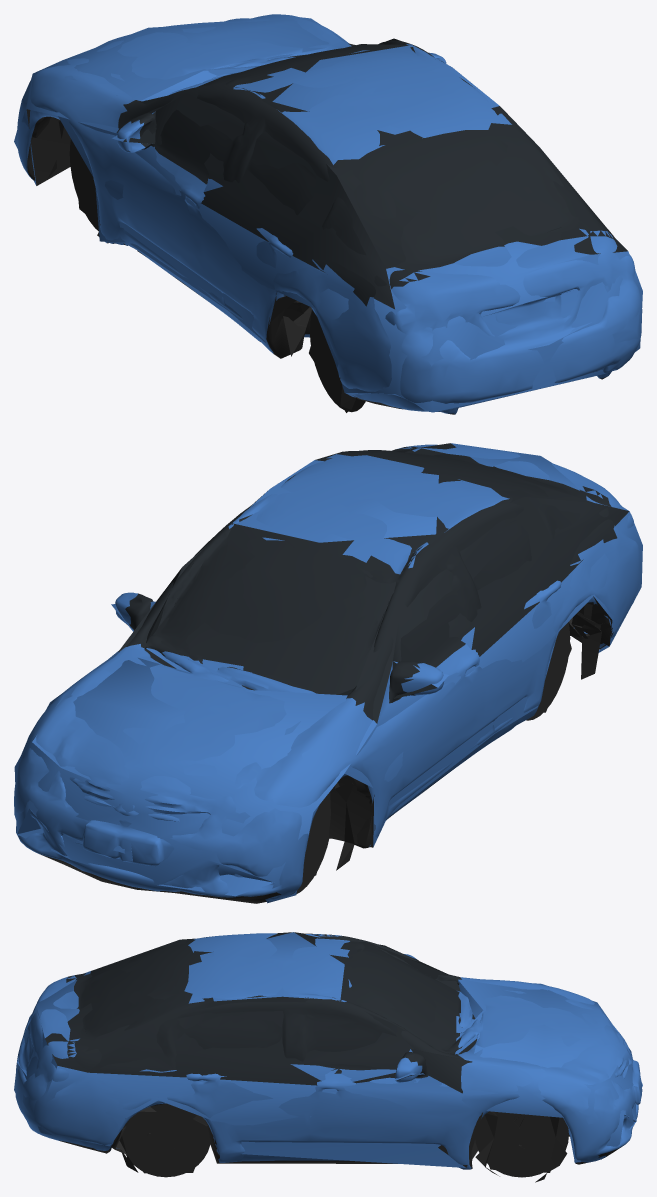
Rendered from infiniti-g25.glb.
3 views of the same model, one above another, from view 1: azimuth 30°, elevation 25°; view 2: azimuth 150°, elevation 25°; view 3: azimuth 270°, elevation 25° (orthographic). The views are drawn at different scales.
Visible parts, largest first — view 1: body, far; view 2: body, far; view 3: body, far.
Part boxes in pixels (x1,y1,x2,y2): body: [17, 14, 642, 414]; far: [14, 17, 642, 412]; body: [14, 444, 640, 903]; far: [14, 443, 642, 903]; body: [15, 933, 642, 1182]; far: [14, 932, 642, 1173].
Bounding box in the file's own units: 2.11 × 1.5 × 4.69.
